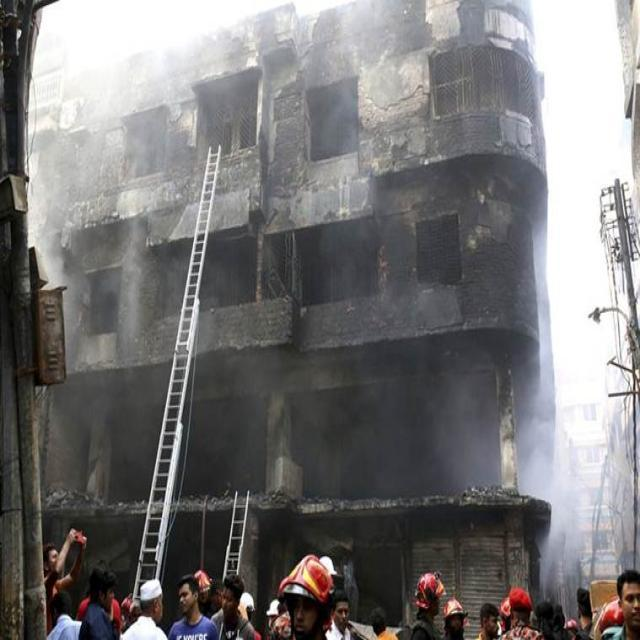Smoke: (37, 125, 141, 299), (532, 274, 580, 574)
